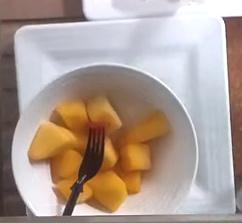fruit: (28, 94, 166, 211)
